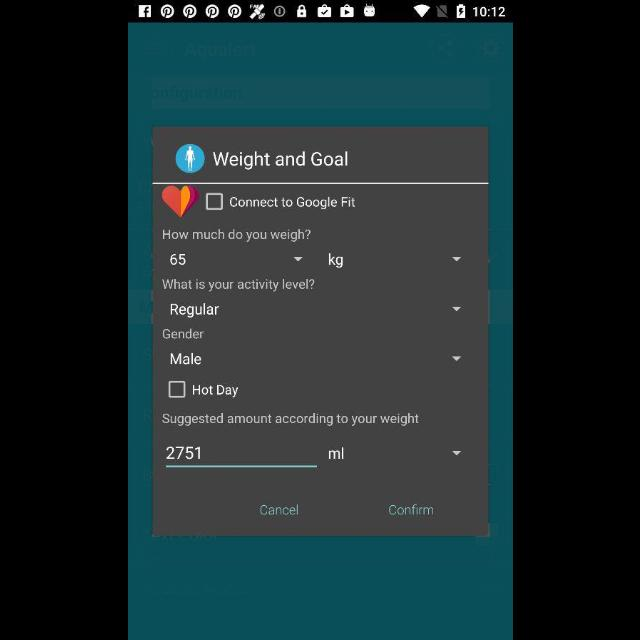checkbox: (205, 193, 223, 211), (168, 382, 185, 398)
icon: (452, 356, 461, 362), (452, 450, 461, 456), (452, 257, 461, 261), (452, 307, 461, 311), (294, 258, 302, 262)
image: (162, 186, 198, 218), (174, 144, 203, 174)
input: (165, 446, 317, 468)
panel: (153, 128, 489, 536)
text: (161, 413, 419, 427), (161, 276, 315, 294), (212, 152, 351, 170), (162, 230, 310, 242), (230, 196, 354, 210), (170, 304, 218, 318), (192, 386, 238, 398), (389, 504, 433, 516), (162, 328, 204, 339), (260, 504, 298, 516), (166, 446, 200, 459), (172, 354, 200, 364), (328, 252, 342, 268), (169, 254, 185, 266), (329, 447, 343, 459)
uppertaskbar: (128, 1, 512, 23)
